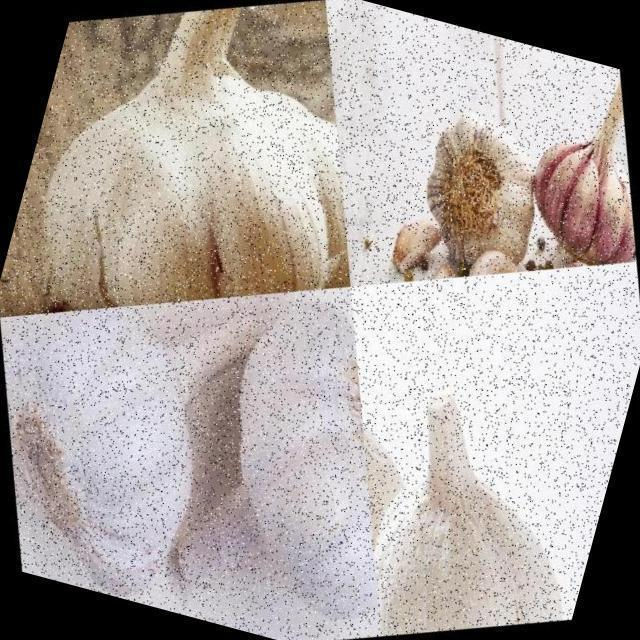garlic: (0, 0, 419, 387), (78, 242, 458, 640), (0, 231, 350, 636), (301, 335, 622, 640), (278, 294, 491, 616), (378, 78, 581, 304), (468, 45, 640, 294), (394, 215, 535, 312), (372, 198, 464, 290)
